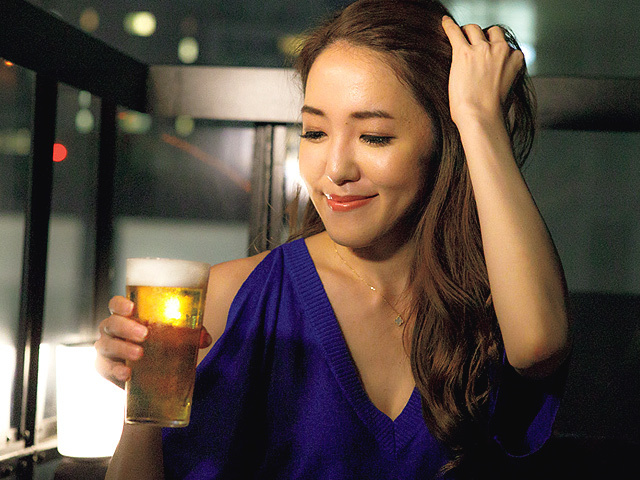face: (295, 36, 434, 251)
hand: (441, 12, 526, 124), (94, 295, 147, 387)
